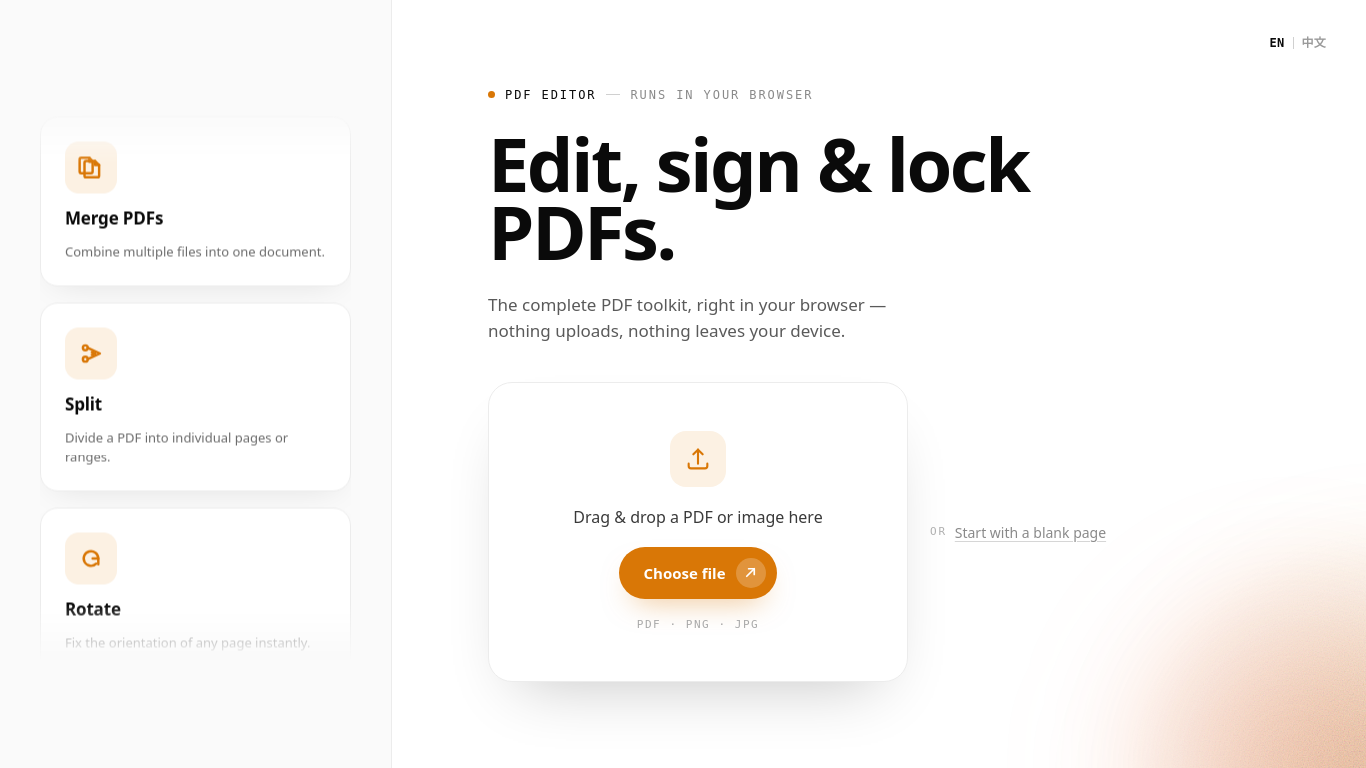
open flow › "Start with a blank page" loads a fresh document and opens the page editor
Click the button "Start with a blank page".
click(1030, 532)  # box [955,522,1106,543]
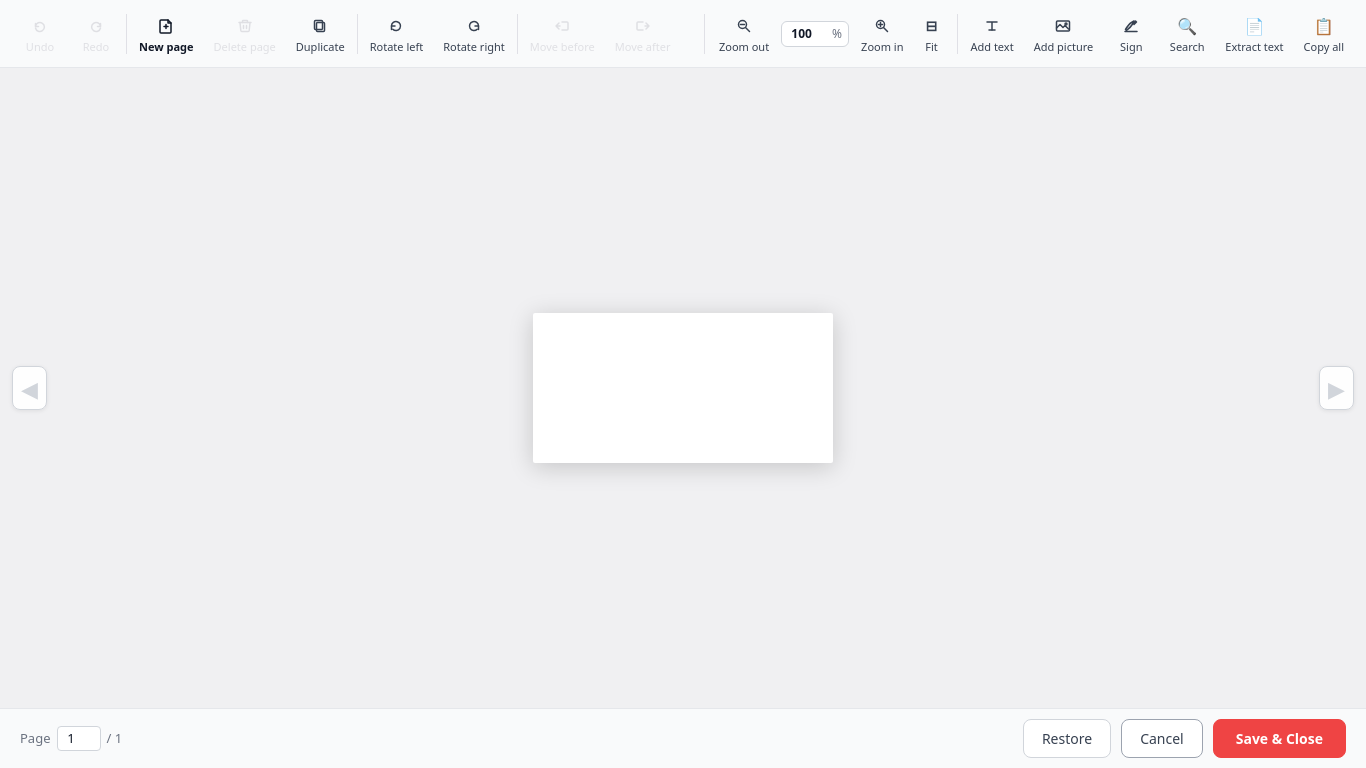
Now the element with test id "modal-backdrop" is shown
